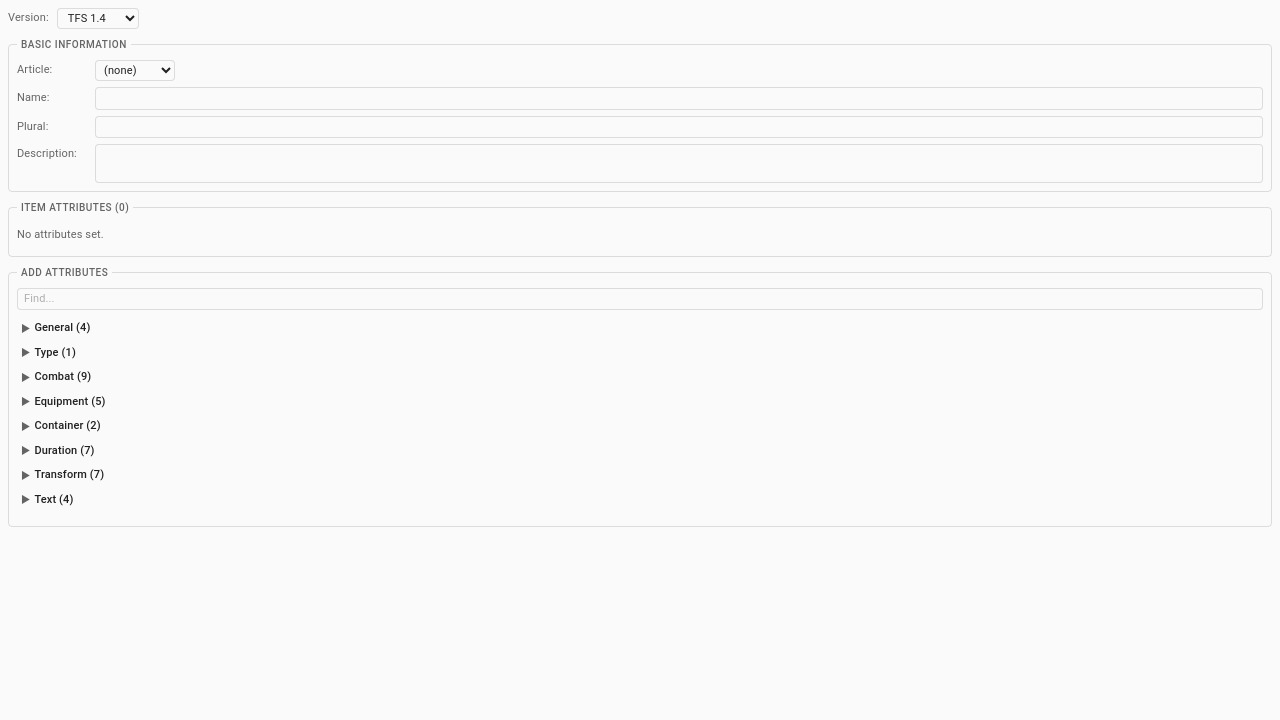
Test: AttributesEditor › search and add attributes › shows search results when typing
Type "attack" into the field with test id "attr-search" at (640, 299), box [17,288,1263,310]
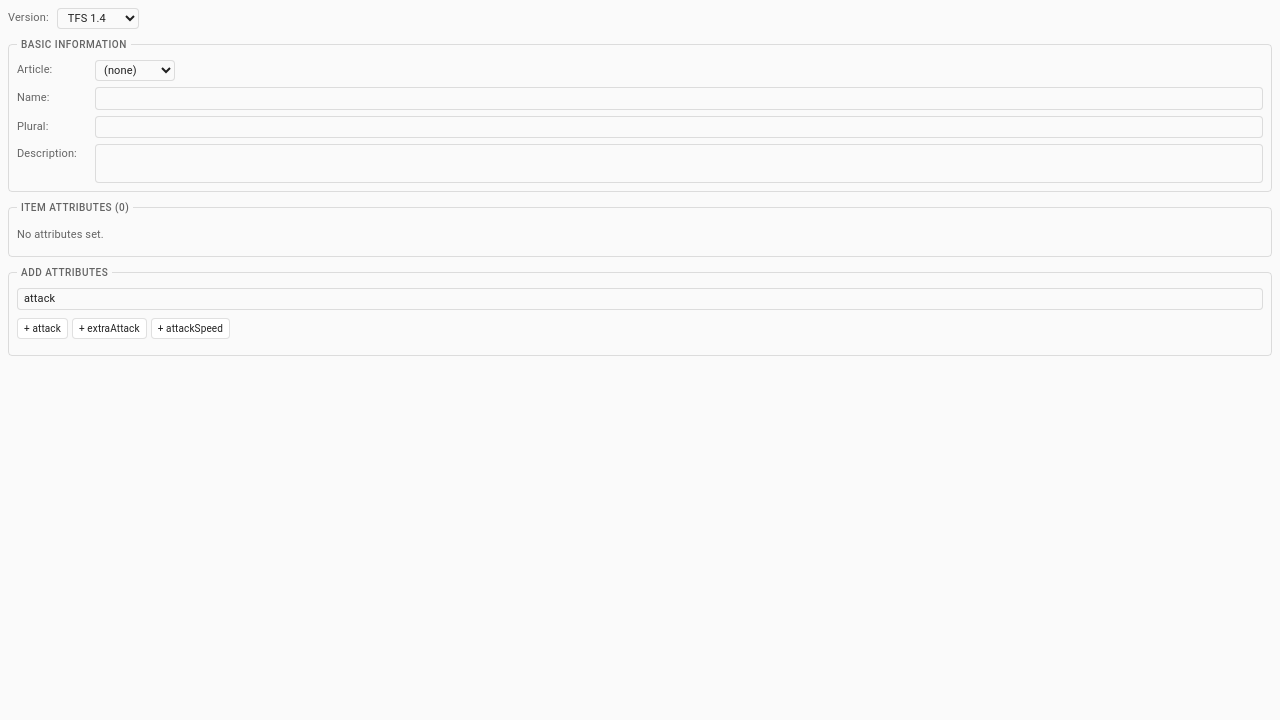
Result: the element with test id "search-results" is shown at [17,318,230,339]
